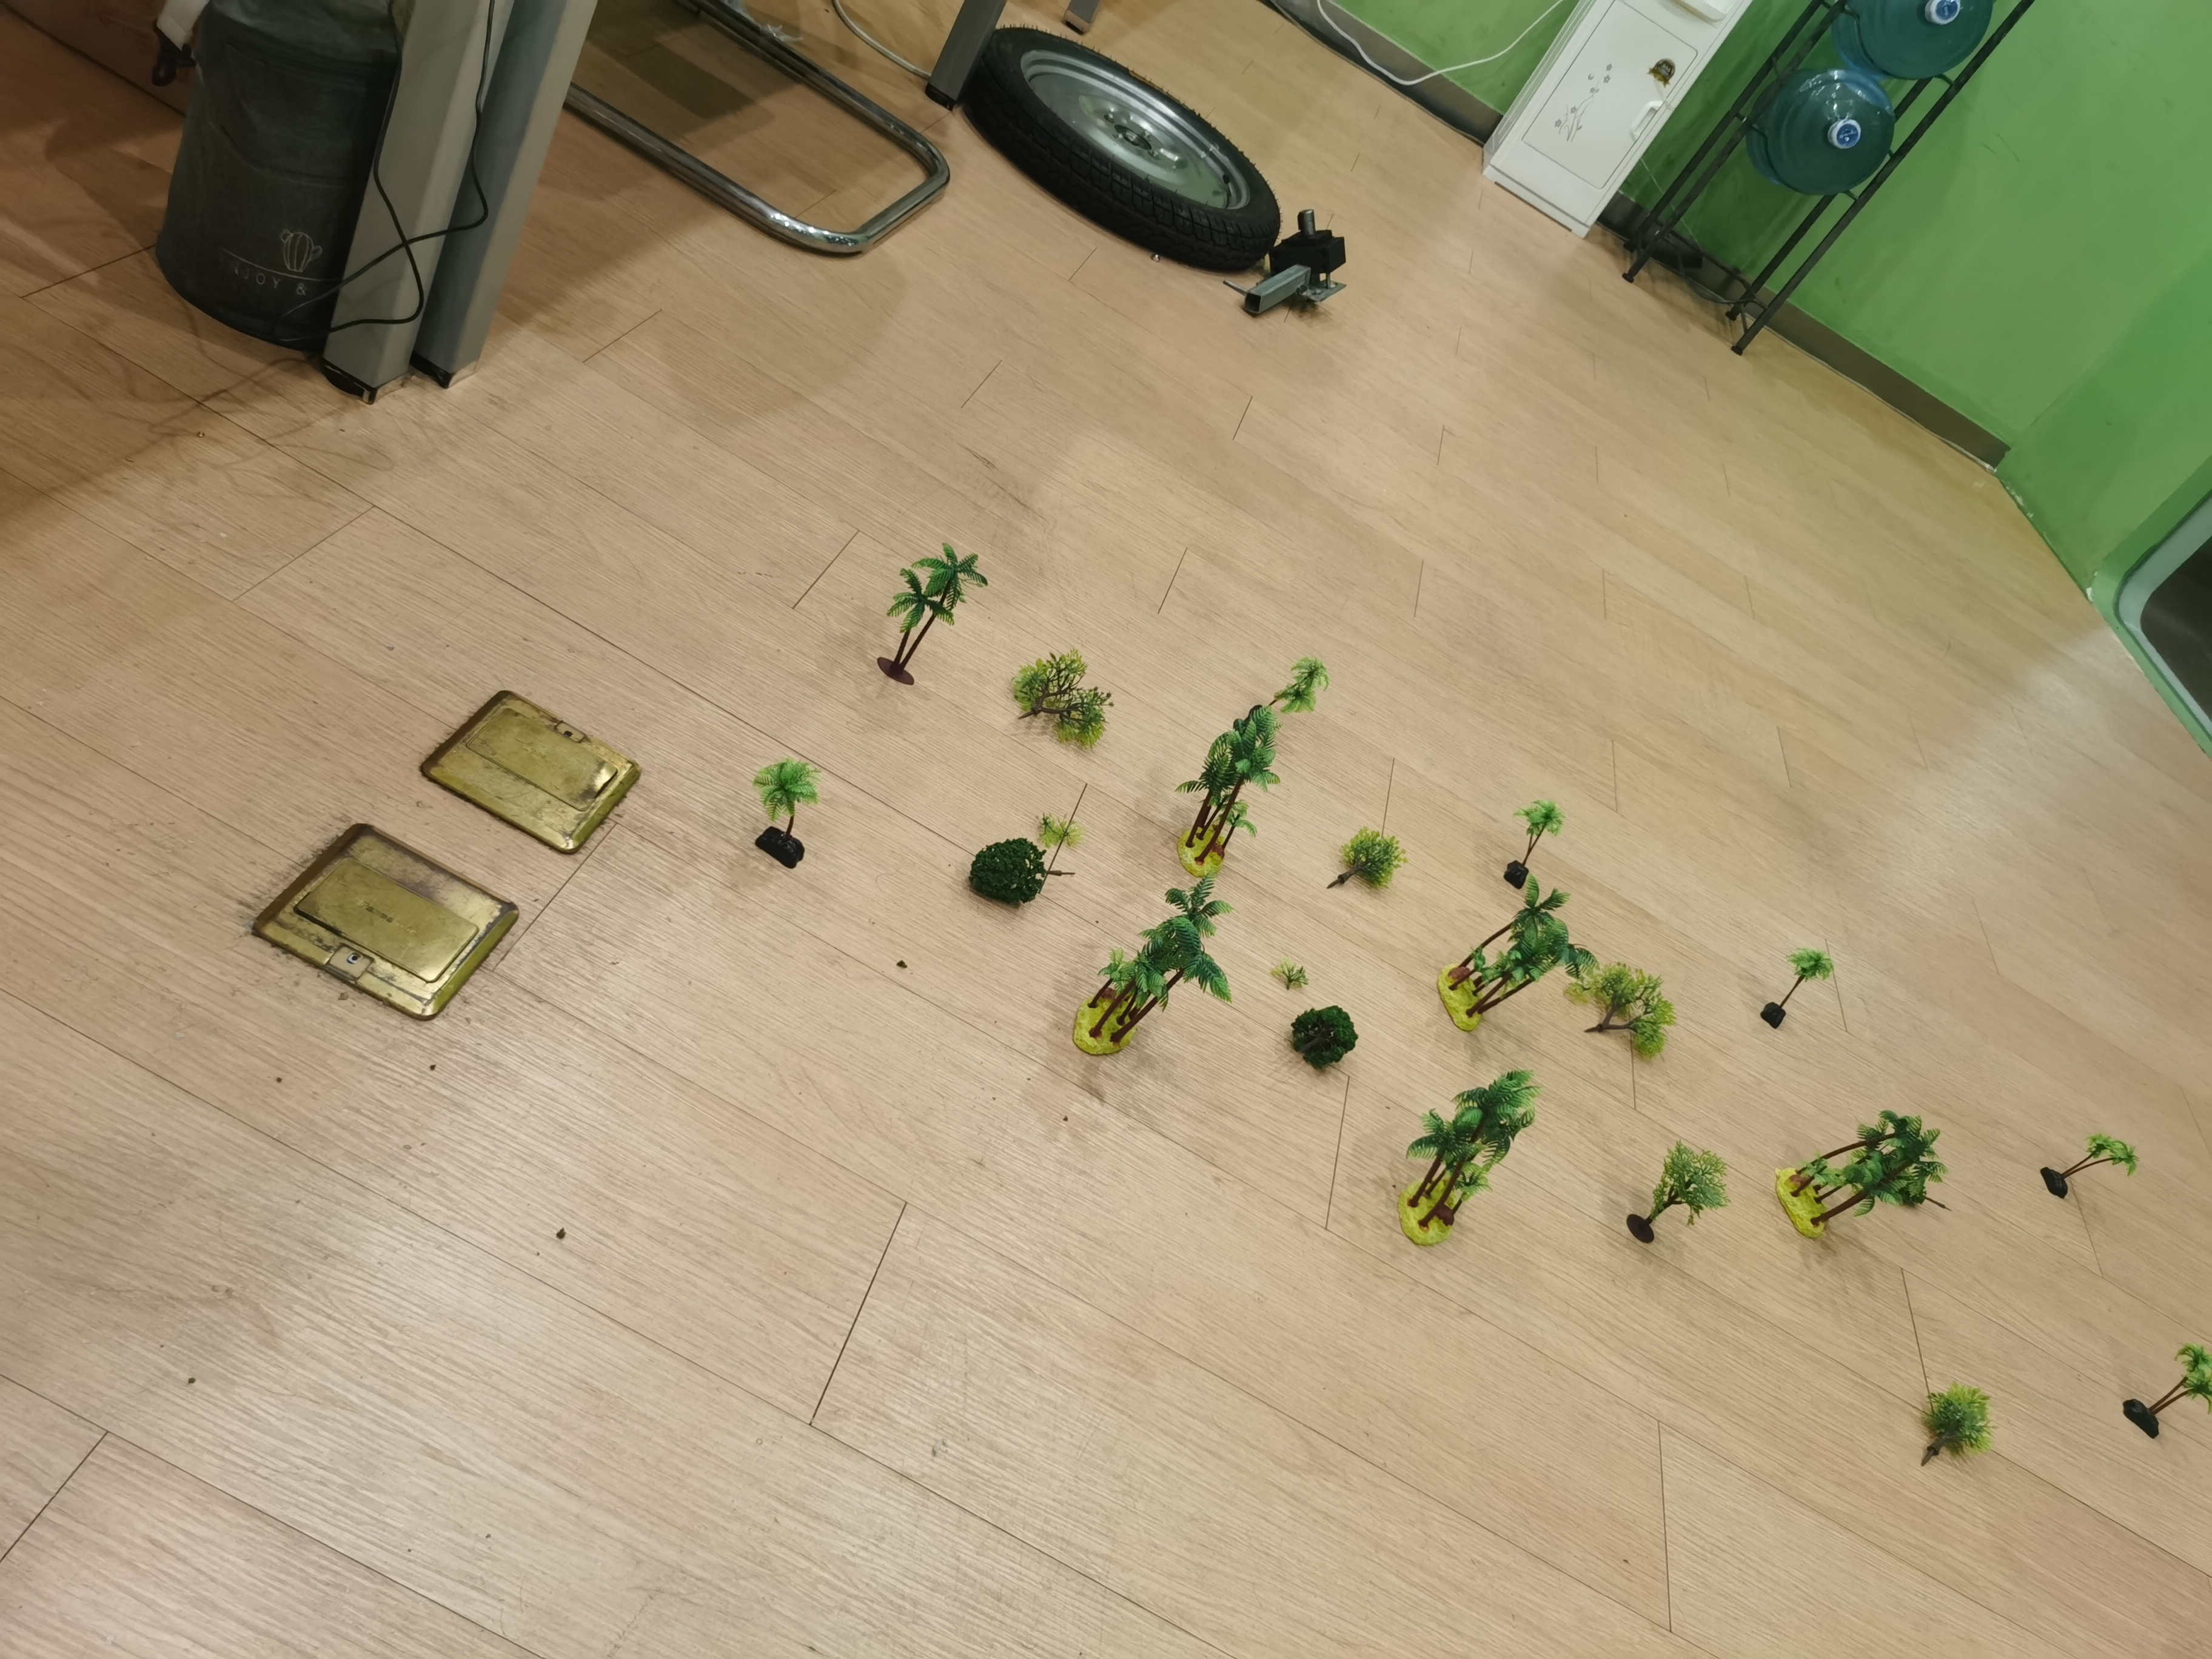corn: (1068, 873, 1238, 1053), (1766, 1100, 1959, 1248), (1423, 882, 1599, 1037), (1402, 1066, 1548, 1241), (1160, 699, 1292, 866), (876, 544, 1000, 688), (740, 756, 840, 871), (2031, 1112, 2149, 1206), (2111, 1331, 2212, 1439), (1489, 803, 1583, 887), (1747, 957, 1846, 1021)
